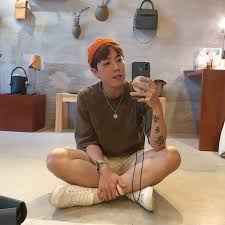people: (49, 40, 183, 210)
